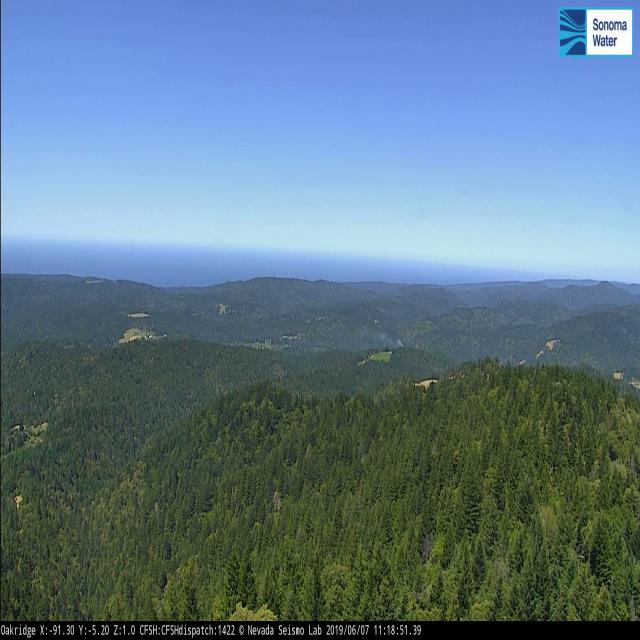smoke: (339, 323, 409, 350)
